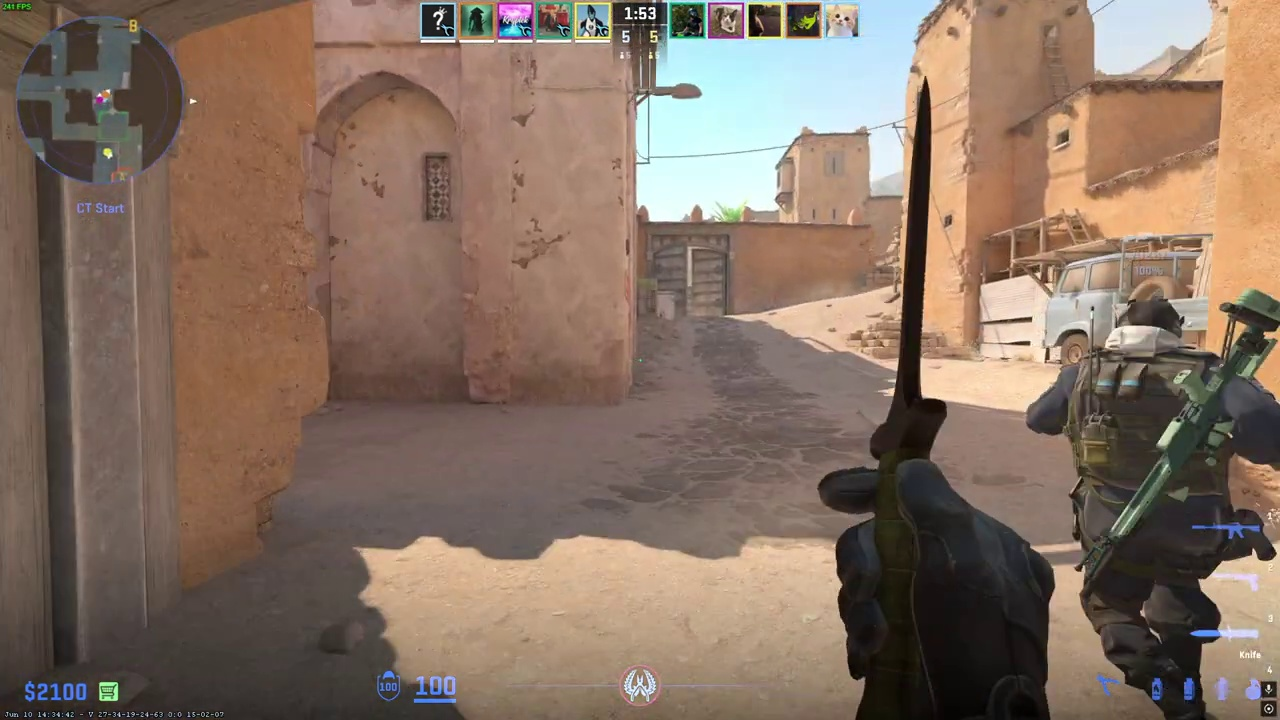CT: (1049, 298, 1280, 720)
